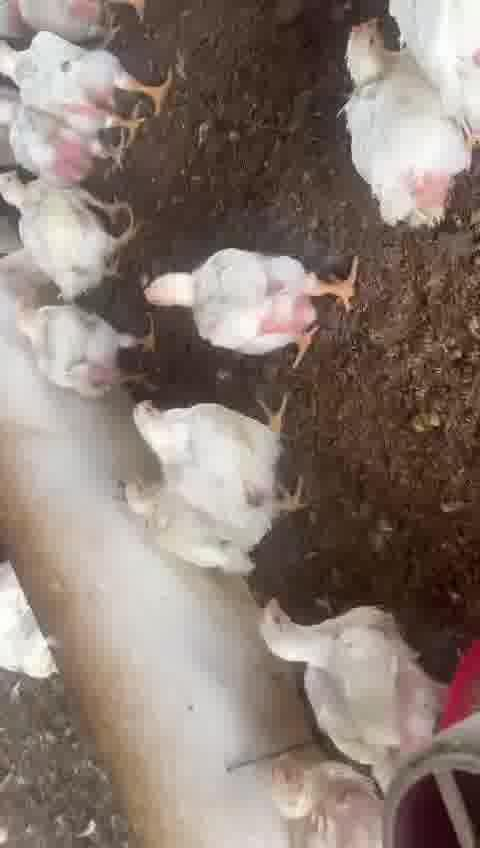AbNormal: (344, 19, 471, 216)
Normal: (259, 590, 439, 745), (147, 250, 357, 358), (130, 397, 307, 516), (4, 162, 132, 292), (2, 37, 176, 117), (12, 299, 145, 400), (120, 484, 267, 568), (270, 750, 374, 848)
